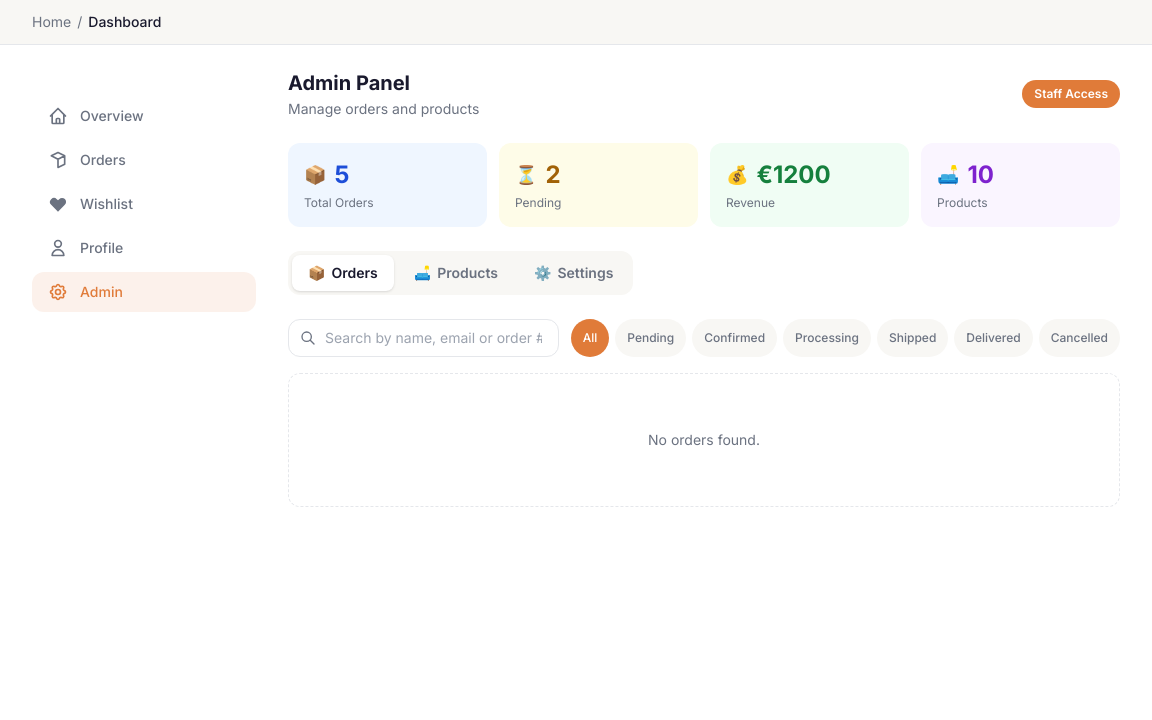
Test: Admin Settings tab › saves new values and shows success message
Check: the heading "Admin Panel" is shown, box [288,71,410,95]
Click the button "⚙️ Settings". click: (574, 273)
box: [518,255,629,291]
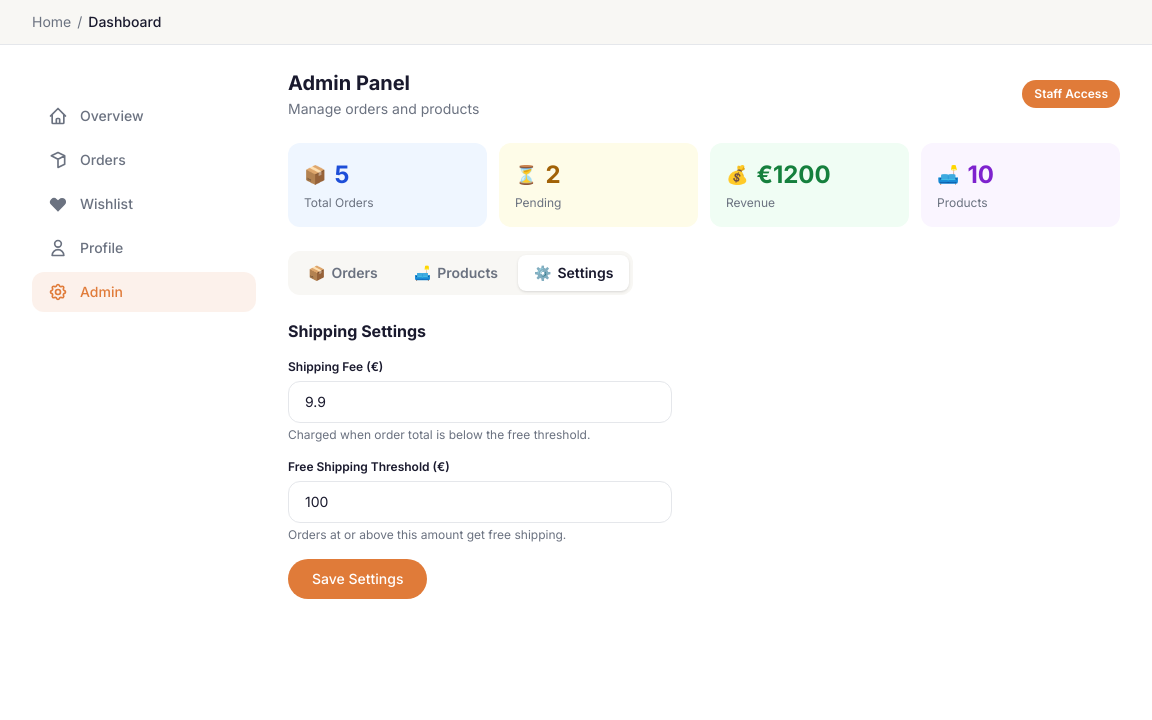
Check: the heading "Shipping Settings" is shown, box [288,321,426,341]
Replace the text in the number field below "Shipping Fee (€)" with "5.50". click: (480, 402)
box: [288,381,672,423]
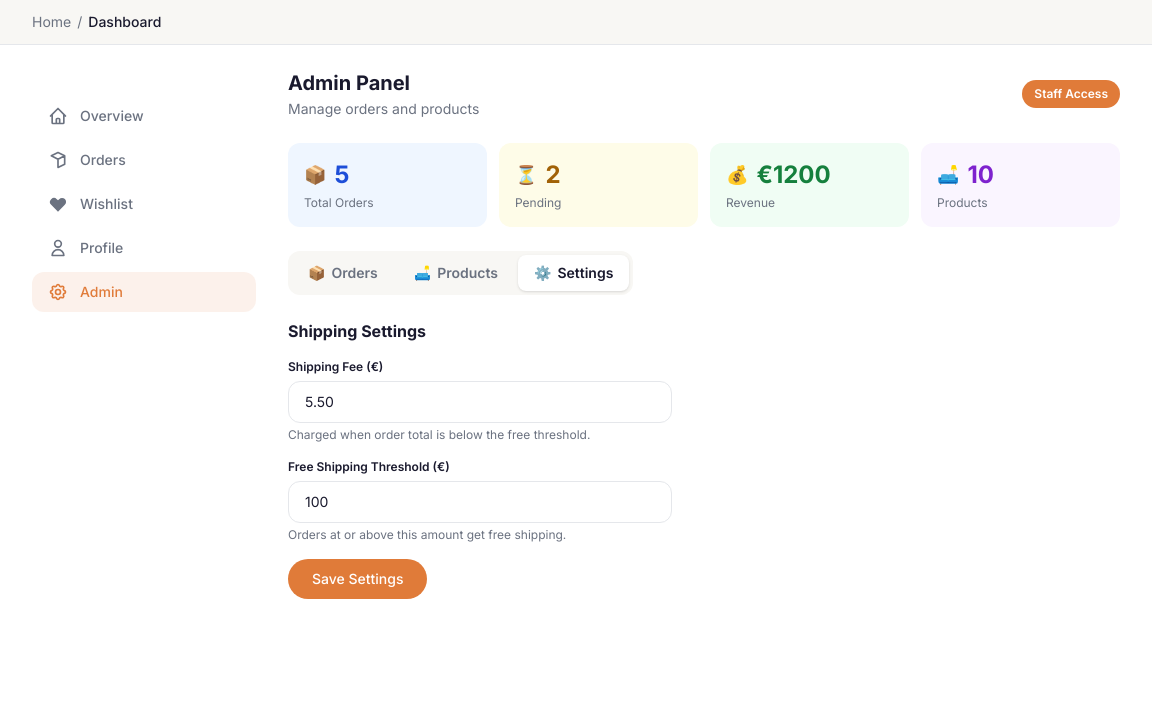
Replace the text in the number field below "Free Shipping Threshold (€)" with "75". click: (480, 502)
box: [288,481,672,523]
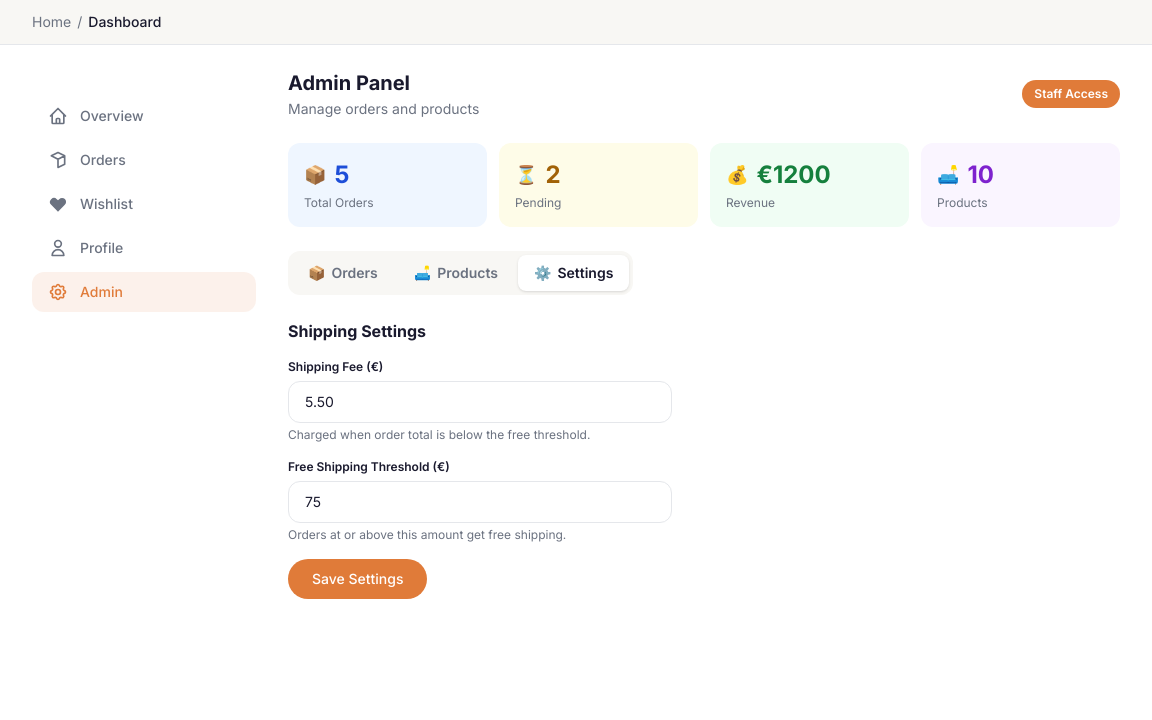
Check: the button "Save Settings" is shown, box [288,559,427,599]
Submit the form, box [288,359,672,599]
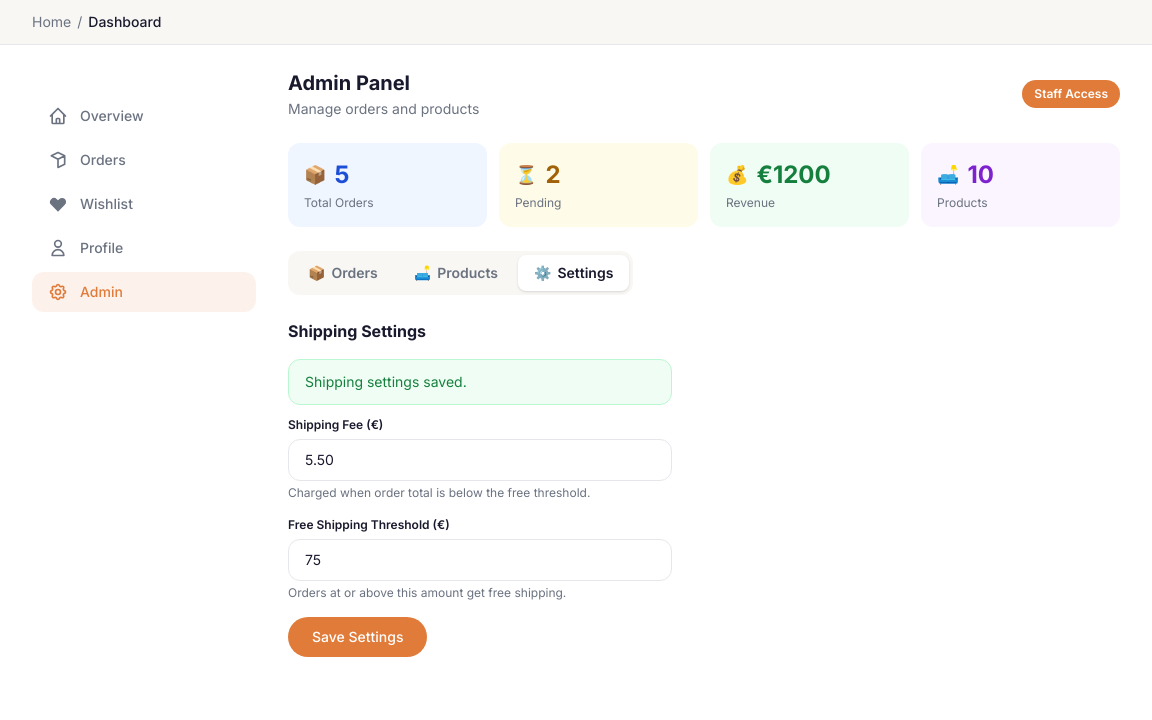
Check: the text "Shipping settings saved." is shown, box [288,359,672,405]
